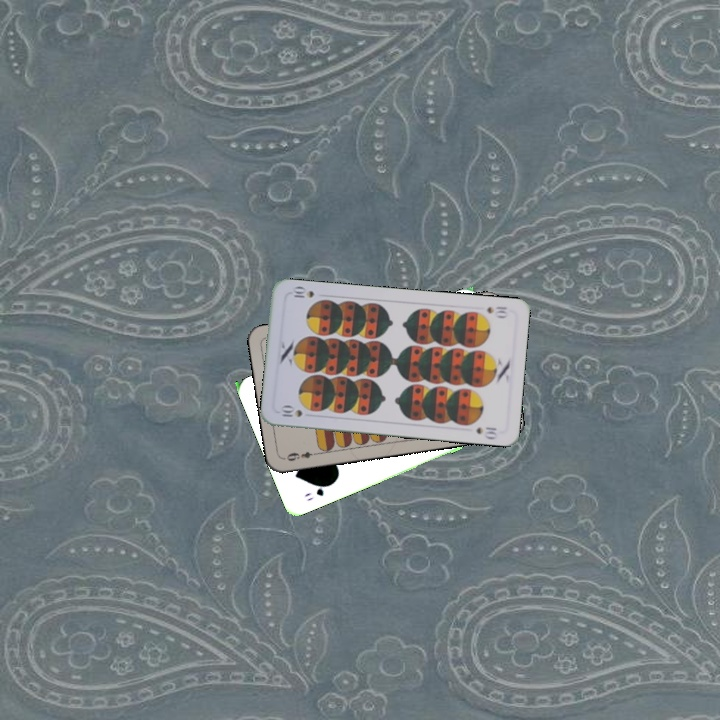E9: (281, 448, 321, 464)
GO: (300, 479, 335, 504)
S10: (483, 302, 510, 320), (276, 403, 305, 419)
